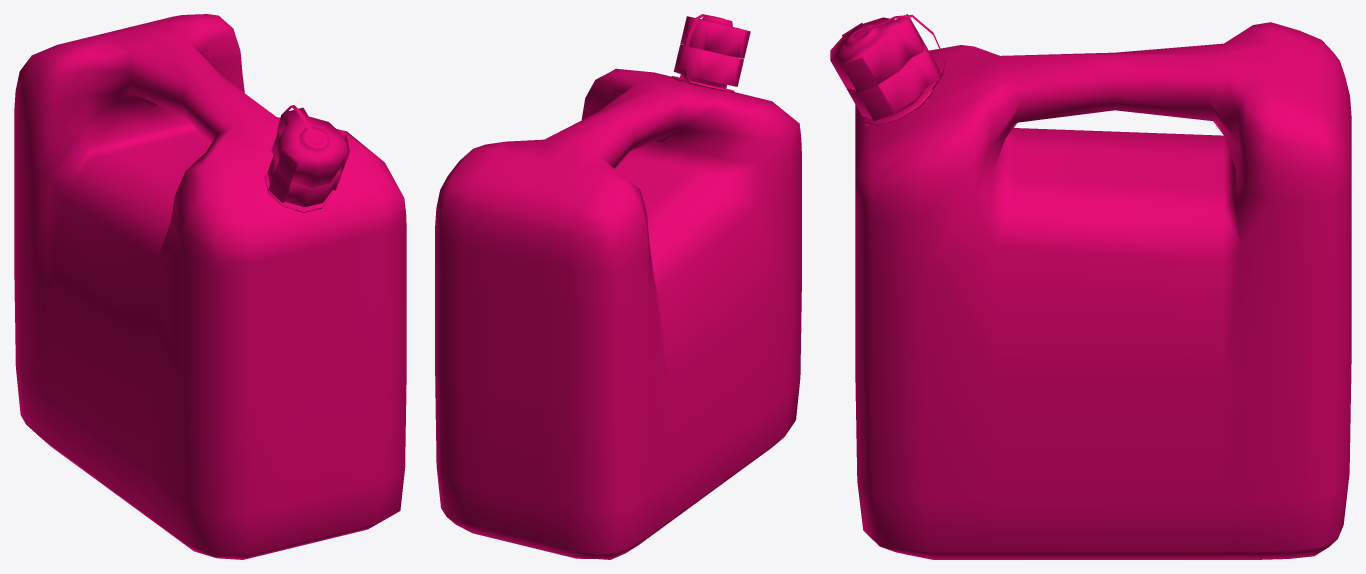
File: Petrol_Can_01_Lod0.fbx
3 renders of one model, left to right at view 1: azimuth 30°, elevation 25°; view 2: azimuth 150°, elevation 25°; view 3: azimuth 270°, elevation 25°, orthographic. The views are drawn at different scales.
Parts seen in each view (by area): view 1: Petrol_Can_01_Lod0; view 2: Petrol_Can_01_Lod0; view 3: Petrol_Can_01_Lod0.
Part boxes in pixels (<box>): Petrol_Can_01_Lod0: <box>14,14,406,559</box>; Petrol_Can_01_Lod0: <box>435,14,801,559</box>; Petrol_Can_01_Lod0: <box>830,14,1351,559</box>.
Size of the model in its own units: 25.05 by 49.27 by 46.73.
